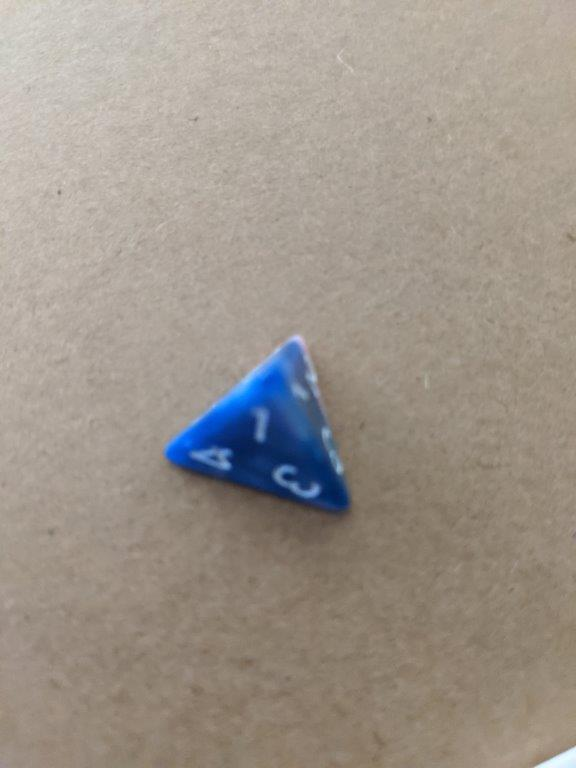d4-1: (162, 331, 355, 521)
